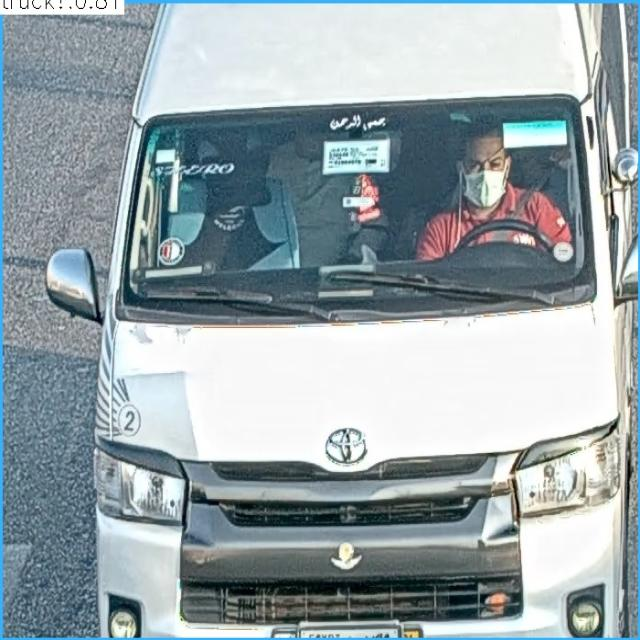windshield: (120, 94, 580, 295)
